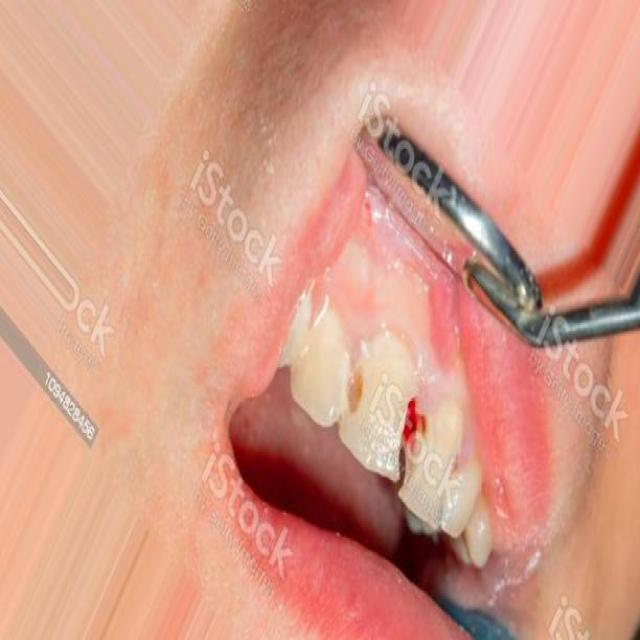caries: (388, 379, 446, 470), (329, 337, 378, 426)
